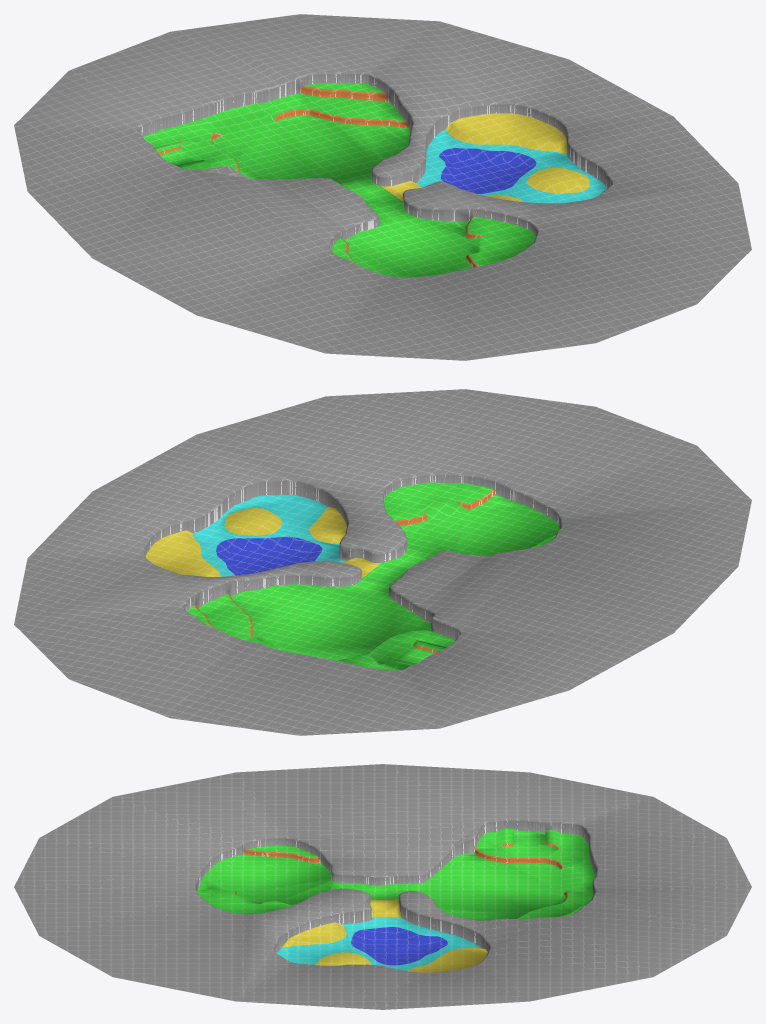
Rendered from Debug Map Block Out N2.fbx.
The picture shows the model from 3 angles, top to bottom: view 1: azimuth 30°, elevation 25°; view 2: azimuth 150°, elevation 25°; view 3: azimuth 270°, elevation 25°; orthographic projection. The views are drawn at different scales.
Visible parts, largest first — view 1: Terrain; view 2: Terrain; view 3: Terrain.
Boxes of the visible parts, x1,y1,x2,y2 form: Terrain: (14,14,751,360); Terrain: (14,389,751,735); Terrain: (14,764,751,1009).
Bounding box in the file's own units: 266 × 14.12 × 337.
